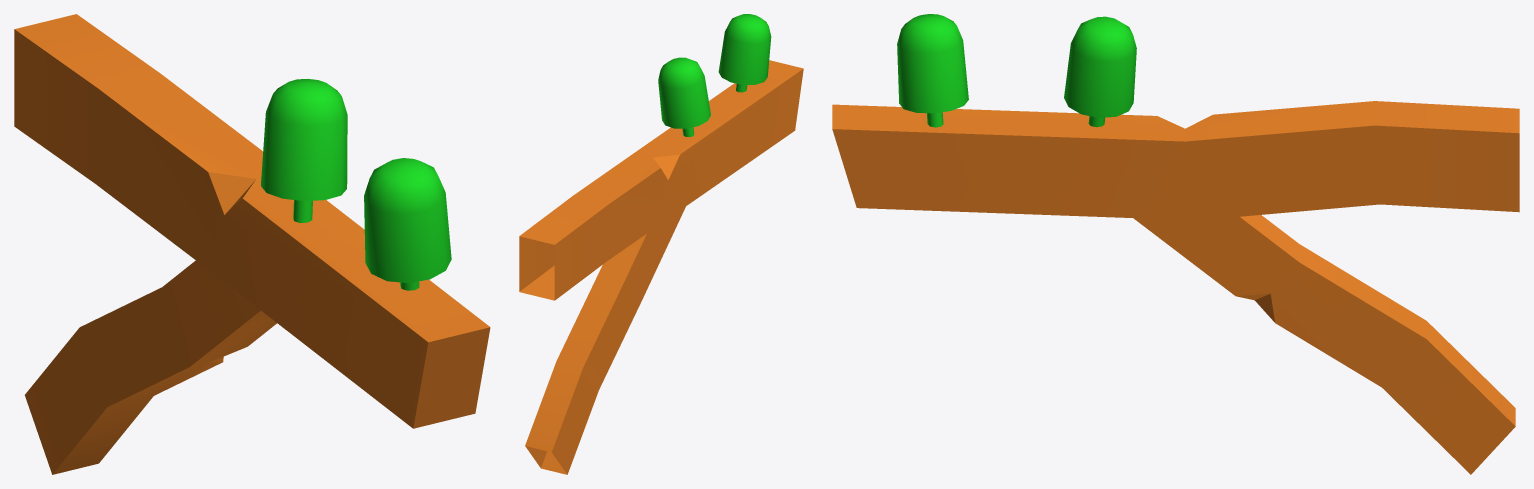
File: ReseauElectrique_Bois_03.fbx
3 renders of one model, left to right at view 1: azimuth 30°, elevation 25°; view 2: azimuth 150°, elevation 25°; view 3: azimuth 270°, elevation 25°, orthographic. The views are drawn at different scales.
Parts seen in each view (by area): view 1: ReseauElectrique_Bois_03_LOD0; view 2: ReseauElectrique_Bois_03_LOD0; view 3: ReseauElectrique_Bois_03_LOD0.
Boxes of the visible parts, x1,y1,x2,y2 form: ReseauElectrique_Bois_03_LOD0: (14, 14, 490, 474); ReseauElectrique_Bois_03_LOD0: (519, 14, 803, 474); ReseauElectrique_Bois_03_LOD0: (832, 14, 1519, 474).
Size of the model in its own units: 21.84 by 141 by 197.
